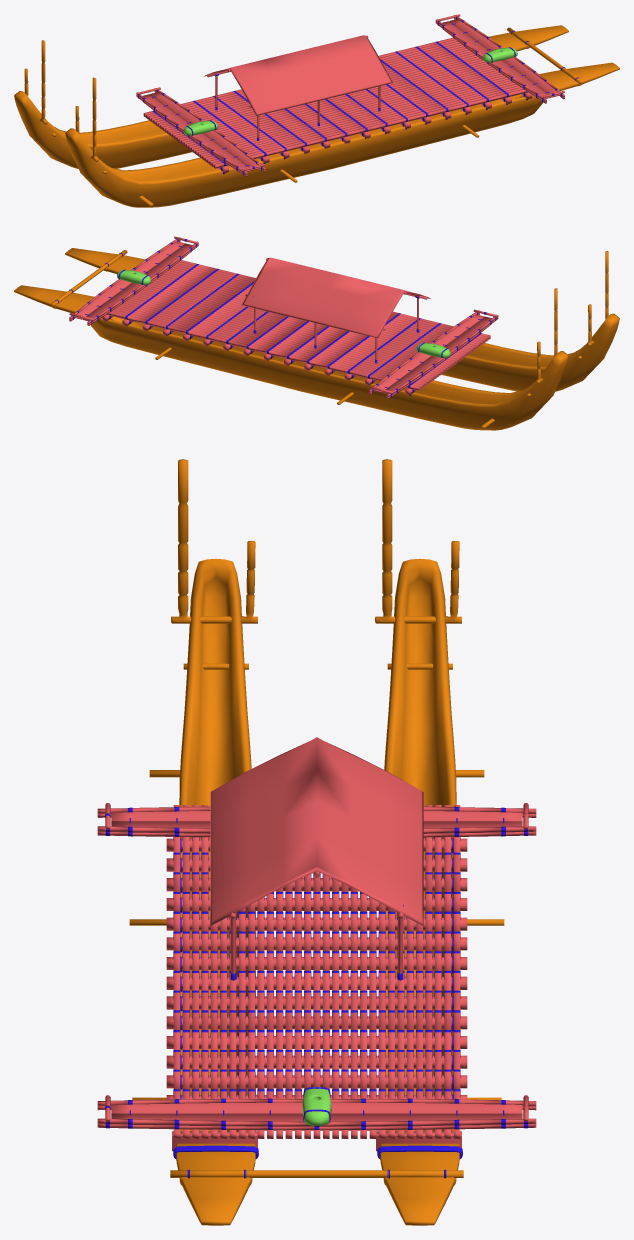
The model's file is SM_Tipairua_Hangar.fbx.
3 renders of one model, top to bottom at view 1: azimuth 30°, elevation 25°; view 2: azimuth 150°, elevation 25°; view 3: azimuth 270°, elevation 25°, orthographic. The views are drawn at different scales.
Visible parts, largest first — view 1: SM_TIpairua_Desk, SM_TIpairua_Canoe, SM_TIpairua_Canoe.001, SM_TIpairua_Desk_ForSail.001, SM_TIpairua_Desk_ForSail, SM_TIpairua_Sticks, SM_TIpairua_Sails_Base, SM_TIpairua_Sails_Base.001; view 2: SM_TIpairua_Desk, SM_TIpairua_Canoe.001, SM_TIpairua_Canoe, SM_TIpairua_Desk_ForSail, SM_TIpairua_Desk_ForSail.001, SM_TIpairua_Sticks, SM_TIpairua_Sails_Base.001, SM_TIpairua_Sails_Base; view 3: SM_TIpairua_Desk, SM_TIpairua_Canoe, SM_TIpairua_Canoe.001, SM_TIpairua_Desk_ForSail, SM_TIpairua_Desk_ForSail.001, SM_TIpairua_Sticks, SM_TIpairua_Sails_Base.
Boxes of the visible parts, box(x1,y1,x2,y2) form: SM_TIpairua_Desk: box(143, 35, 532, 174); SM_TIpairua_Canoe: box(65, 62, 619, 207); SM_TIpairua_Canoe.001: box(14, 25, 568, 168); SM_TIpairua_Desk_ForSail.001: box(136, 87, 265, 176); SM_TIpairua_Desk_ForSail: box(435, 14, 564, 103); SM_TIpairua_Sticks: box(139, 27, 583, 206); SM_TIpairua_Sails_Base: box(483, 47, 517, 62); SM_TIpairua_Sails_Base.001: box(184, 120, 217, 135); SM_TIpairua_Desk: box(83, 257, 490, 395); SM_TIpairua_Canoe.001: box(14, 285, 568, 430); SM_TIpairua_Canoe: box(65, 248, 619, 391); SM_TIpairua_Desk_ForSail: box(69, 236, 198, 325); SM_TIpairua_Desk_ForSail.001: box(369, 309, 498, 398); SM_TIpairua_Sticks: box(50, 250, 494, 429); SM_TIpairua_Sails_Base.001: box(416, 342, 450, 358); SM_TIpairua_Sails_Base: box(117, 269, 151, 284); SM_TIpairua_Desk: box(166, 737, 467, 1151); SM_TIpairua_Canoe: box(171, 459, 258, 1225); SM_TIpairua_Canoe.001: box(375, 459, 462, 1225); SM_TIpairua_Desk_ForSail: box(97, 1095, 536, 1130); SM_TIpairua_Desk_ForSail.001: box(97, 803, 536, 837); SM_TIpairua_Sticks: box(129, 770, 504, 1178); SM_TIpairua_Sails_Base: box(302, 1087, 331, 1125).
Bounding box in the file's own units: 940 × 2713 × 735.
